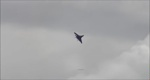maybay_muctieu: (73, 32, 84, 44)
